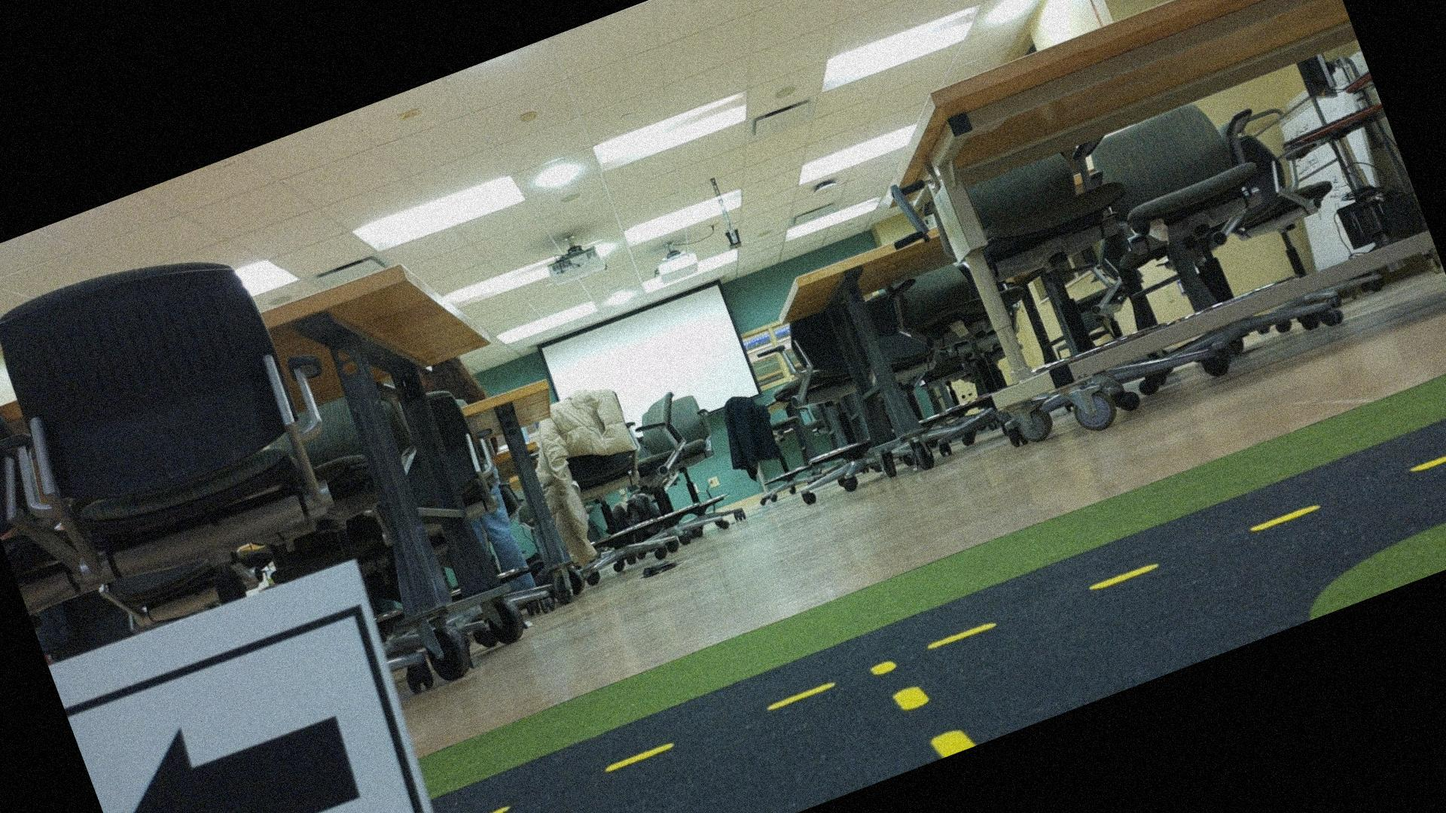turnleft: (52, 562, 470, 812)
yellowline: (462, 440, 1445, 812), (895, 674, 971, 766)
